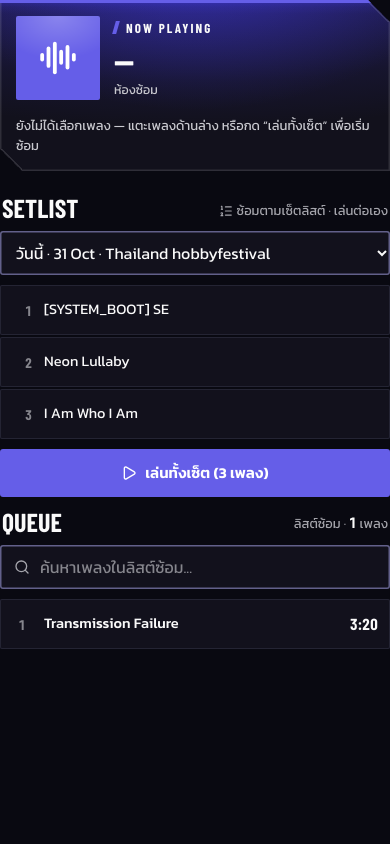
Test: PracticePlayer — ซ้อมตามเซ็ตลิสต์ › folds the section tools for a song without markers, never for one with them
What coordinates should you click on to do the following:
click the button "เล่นทั้งเซ็ต (3 เพลง)"
I would click on:
 (195, 473)
Its box is x1=0 y1=449 x2=389 y2=497.
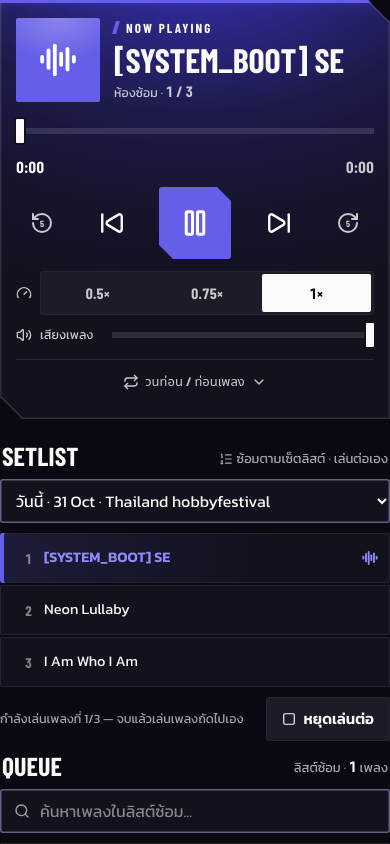
Result: the button "วนท่อน / ท่อนเพลง" is shown at x1=16 y1=359 x2=374 y2=403
